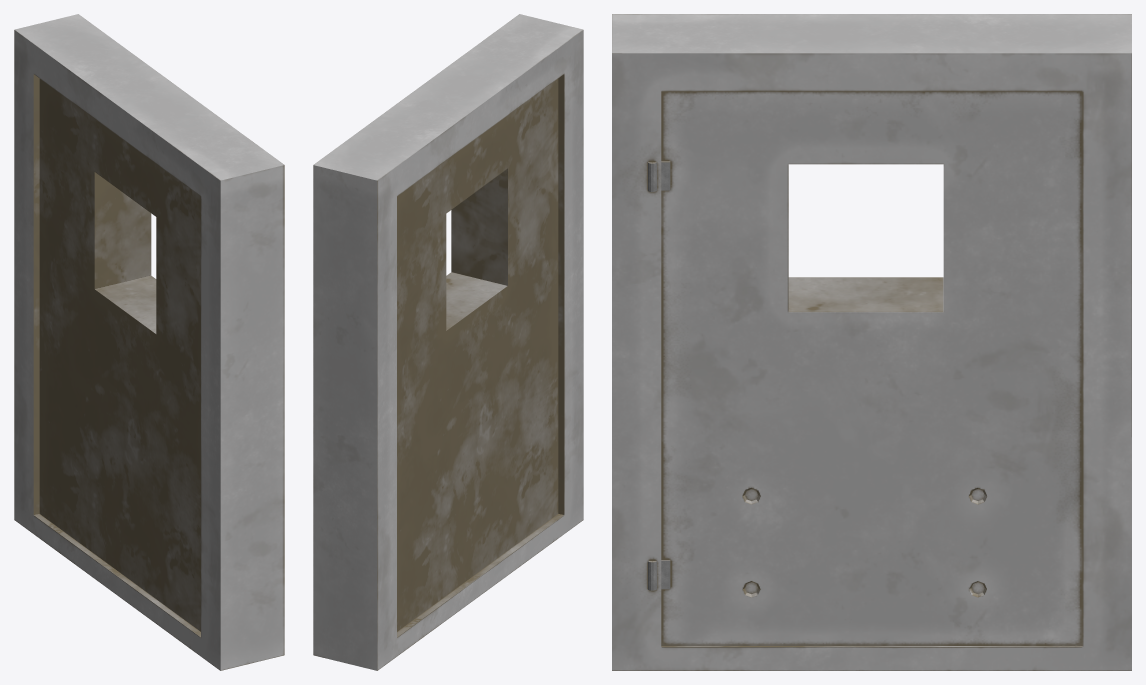
File: 2-5_Prison Cell11 1.fbx
The picture shows the model from 3 angles, left to right: view 1: azimuth 30°, elevation 25°; view 2: azimuth 150°, elevation 25°; view 3: azimuth 270°, elevation 25°; orthographic projection. The views are drawn at different scales.
Parts seen in each view (by area): view 1: _2_5_Prison_Cell11.001, _2_5_Prison_Cell11; view 2: _2_5_Prison_Cell11.001, _2_5_Prison_Cell11; view 3: _2_5_Prison_Cell11, _2_5_Prison_Cell11.001, _2_5_Prison_Cell11.002.
Boxes of the visible parts, box(x1,y1,x2,y2) form: _2_5_Prison_Cell11.001: box(14, 14, 284, 670); _2_5_Prison_Cell11: box(39, 79, 200, 631); _2_5_Prison_Cell11.001: box(313, 14, 583, 670); _2_5_Prison_Cell11: box(397, 79, 558, 631); _2_5_Prison_Cell11: box(661, 91, 1082, 645); _2_5_Prison_Cell11.001: box(612, 14, 1131, 670); _2_5_Prison_Cell11.002: box(648, 161, 670, 590).
Size of the model in its own units: 34.78 by 246 by 188.
